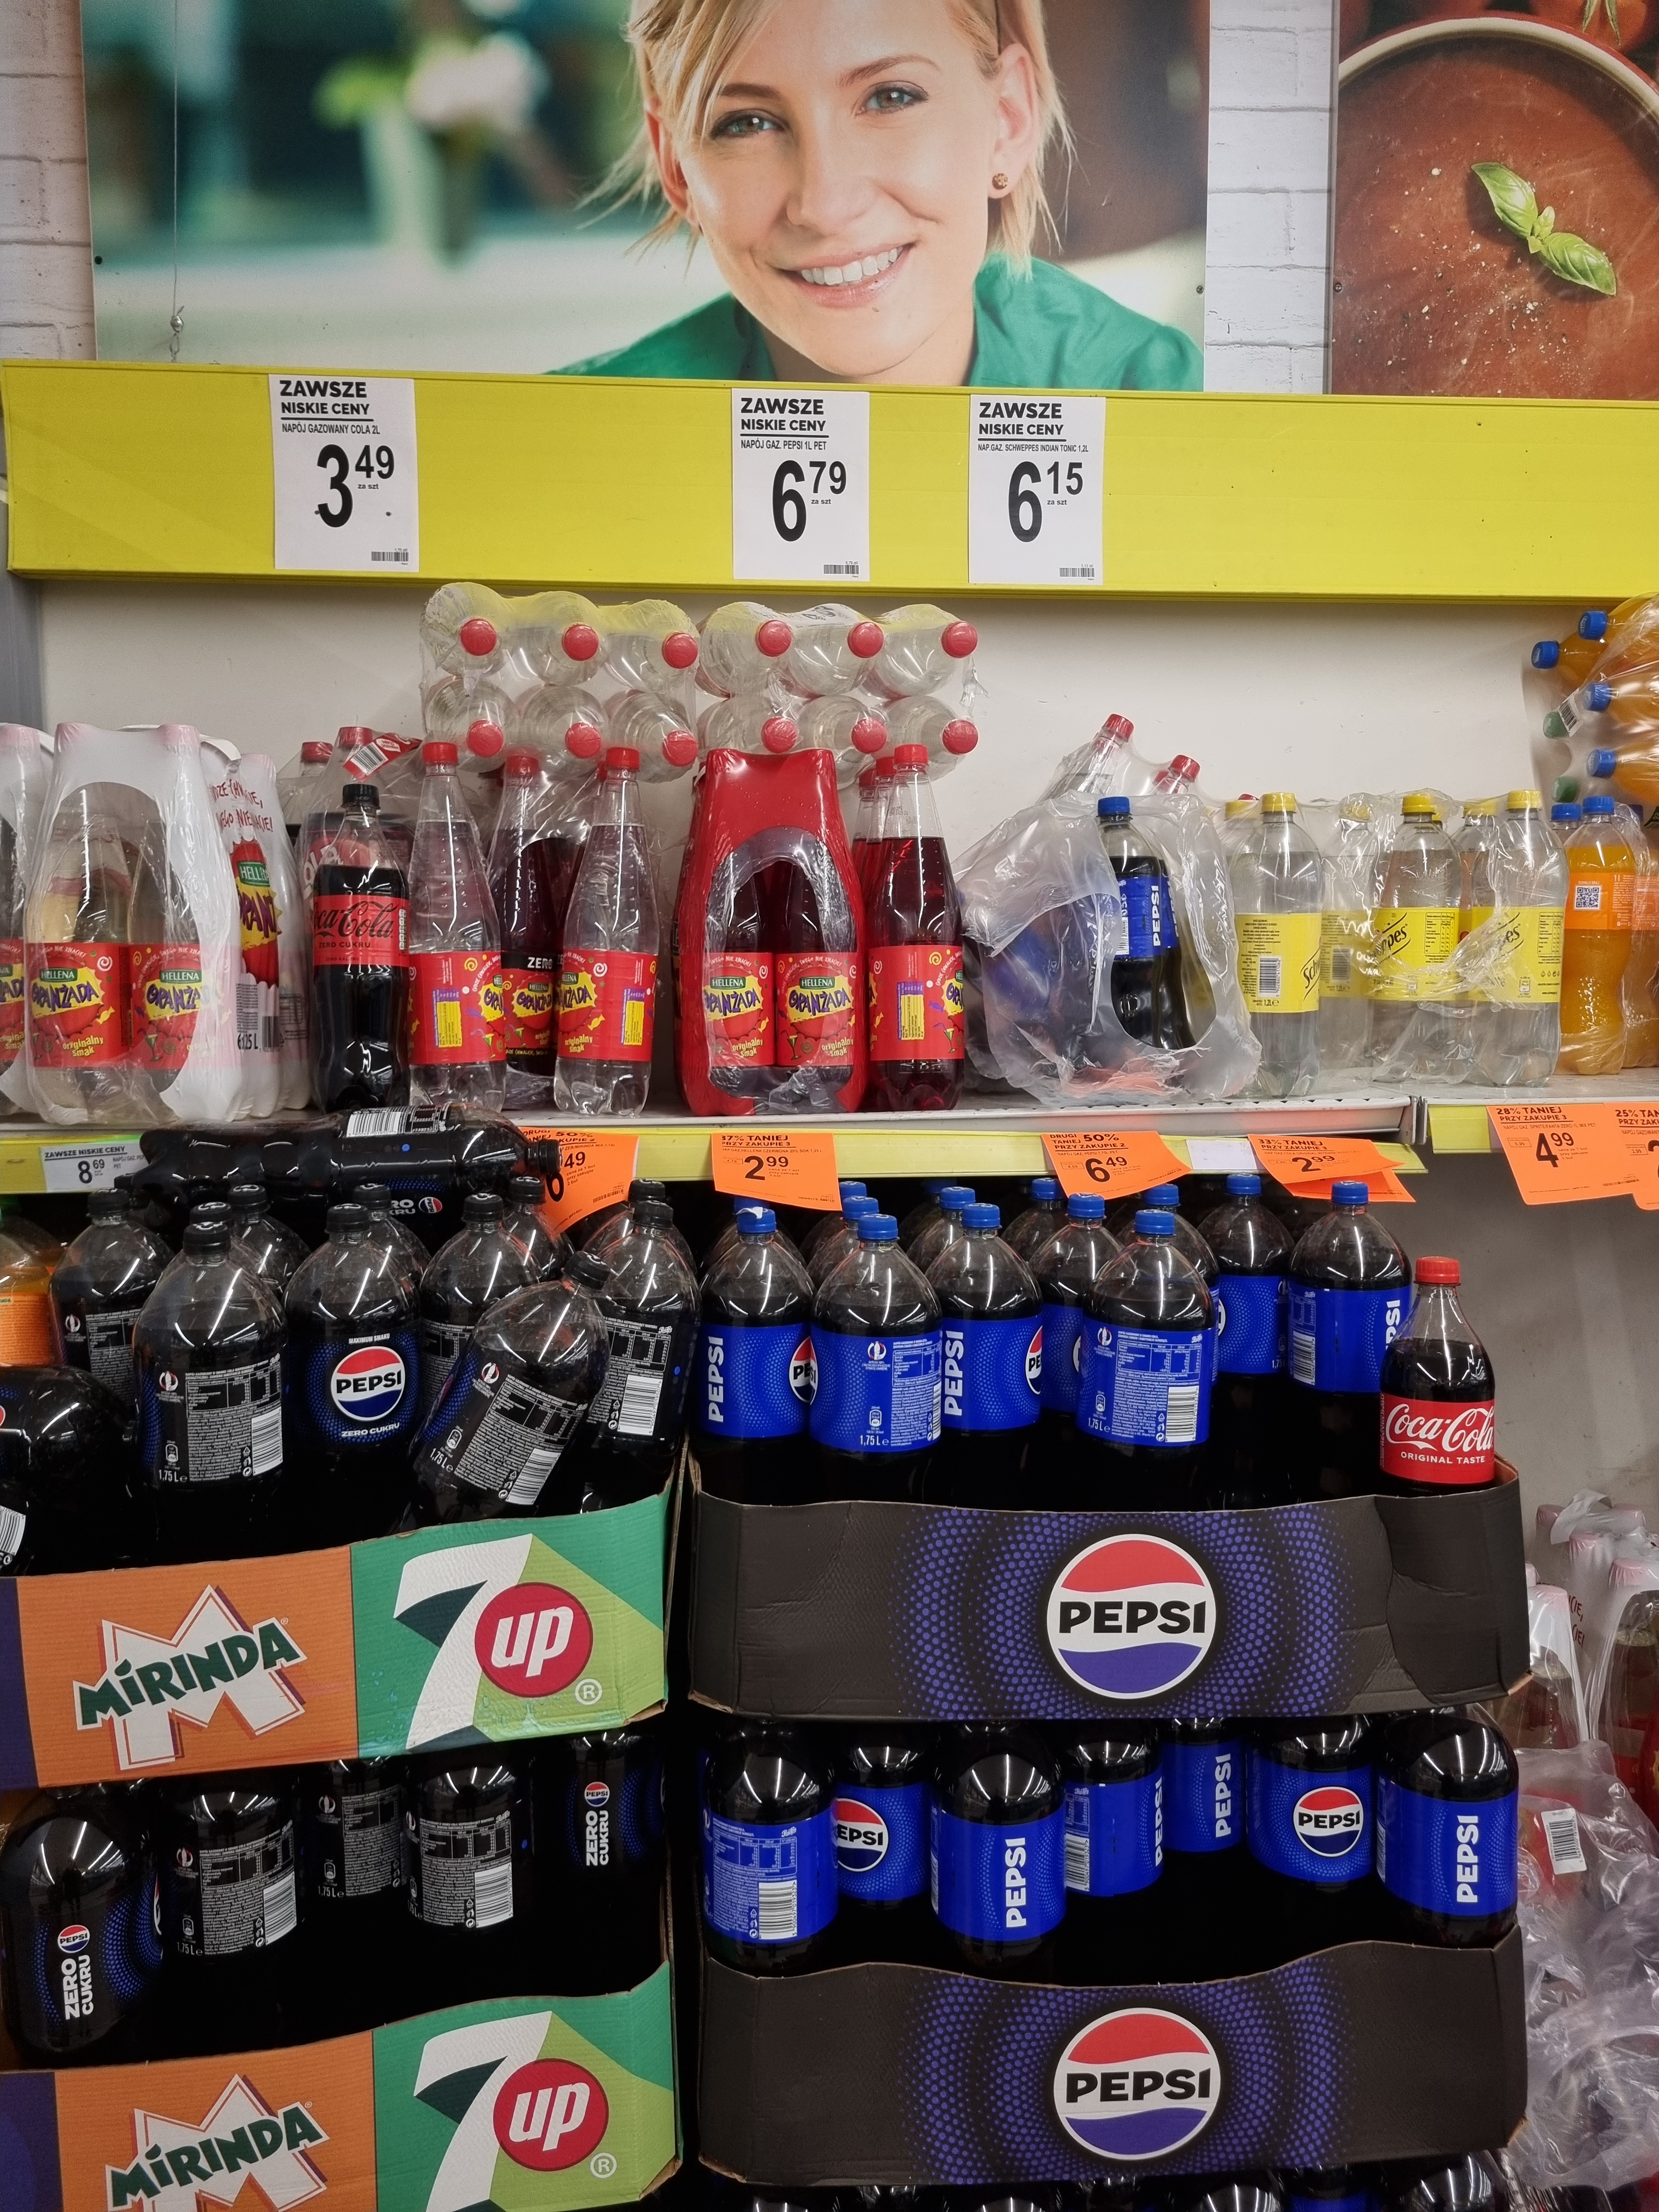Coca Cola: (310, 780, 416, 1109), (1378, 1258, 1507, 1512)
